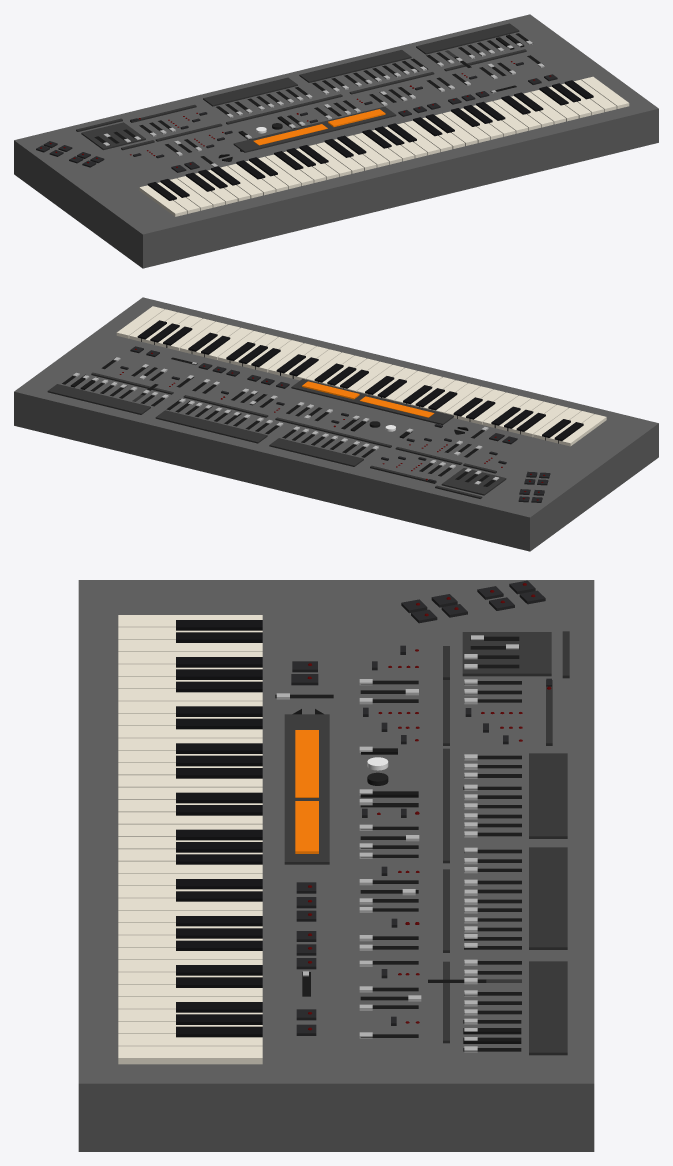
File: usethisjd800.glb
3 views of the same model, one above another, from view 1: azimuth 30°, elevation 25°; view 2: azimuth 150°, elevation 25°; view 3: azimuth 270°, elevation 25° (orthographic). The views are drawn at different scales.
Parts seen in each view (by area): view 1: synth_body.1, panel1.1, panel3, panel3.1, panel2, panel1, Key_C1, Key_C6, panel1.2, Key_F1, Key_F4, Key_F5 (+18 smaller); view 2: synth_body.1, panel1.1, panel3, panel3.1, panel2, panel1, Key_C1, Key_C6, panel1.2, Key_F1, Key_F4, Key_F5 (+14 smaller); view 3: synth_body.1, panel1.1, panel3, panel3.1, panel2, panel1, Key_C6, panel1.2, Key_E3, Key_B3, Key_B2, Key_E2 (+58 smaller).
Part boxes in pixels (box(x1,y1,x2,y2)): synth_body.1: box(14, 14, 658, 268); panel1.1: box(233, 106, 396, 152); panel3: box(299, 50, 411, 82); panel3.1: box(416, 23, 519, 54); panel2: box(203, 77, 297, 106); panel1: box(81, 122, 145, 150); Key_C1: box(139, 185, 187, 216); Key_C6: box(581, 76, 629, 108); panel1.2: box(253, 124, 327, 145); Key_F1: box(177, 176, 225, 207); Key_F4: box(442, 111, 490, 142); Key_F5: box(530, 90, 578, 121); synth_body.1: box(14, 297, 658, 551); panel1.1: box(291, 379, 453, 425); panel3: box(155, 410, 267, 443); panel3.1: box(47, 384, 150, 414); panel2: box(269, 438, 363, 466); panel1: box(441, 468, 506, 495); Key_C1: box(558, 414, 606, 446); Key_C6: box(116, 306, 164, 338); panel1.2: box(360, 396, 434, 417); Key_F1: box(520, 405, 568, 437); Key_F4: box(255, 340, 303, 372); Key_F5: box(167, 318, 215, 350); synth_body.1: box(78, 580, 594, 1151); panel1.1: box(284, 714, 329, 864); panel3: box(529, 847, 567, 949); panel3.1: box(529, 961, 567, 1055); panel2: box(529, 753, 567, 838); panel1: box(462, 632, 551, 676); Key_C6: box(118, 1046, 262, 1064); panel1.2: box(295, 730, 318, 797); Key_E3: box(118, 812, 262, 824); Key_B3: box(118, 861, 262, 873); Key_B2: box(118, 775, 262, 787); Key_E2: box(118, 726, 262, 738).
Size of what is drawn, in the model's own units: 7.96 by 0.6379 by 3.44.
